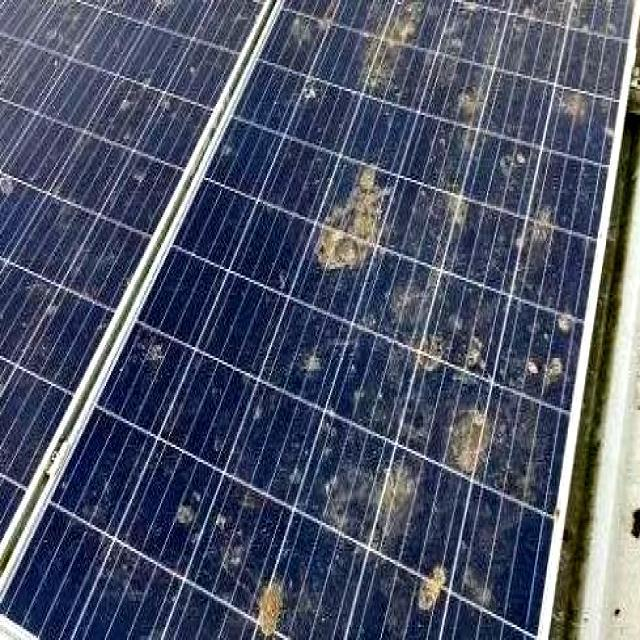soiled: (3, 1, 628, 640)
